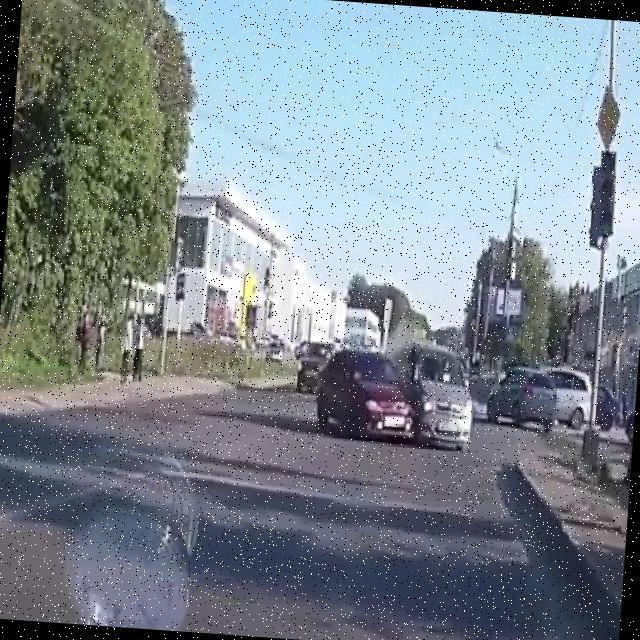accident: (315, 339, 481, 457)
